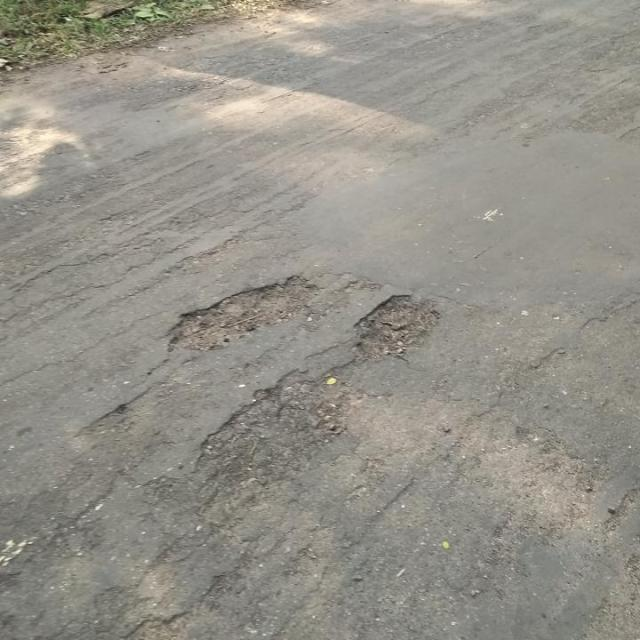pothole: (193, 370, 355, 490), (164, 271, 324, 353), (351, 292, 445, 364)
